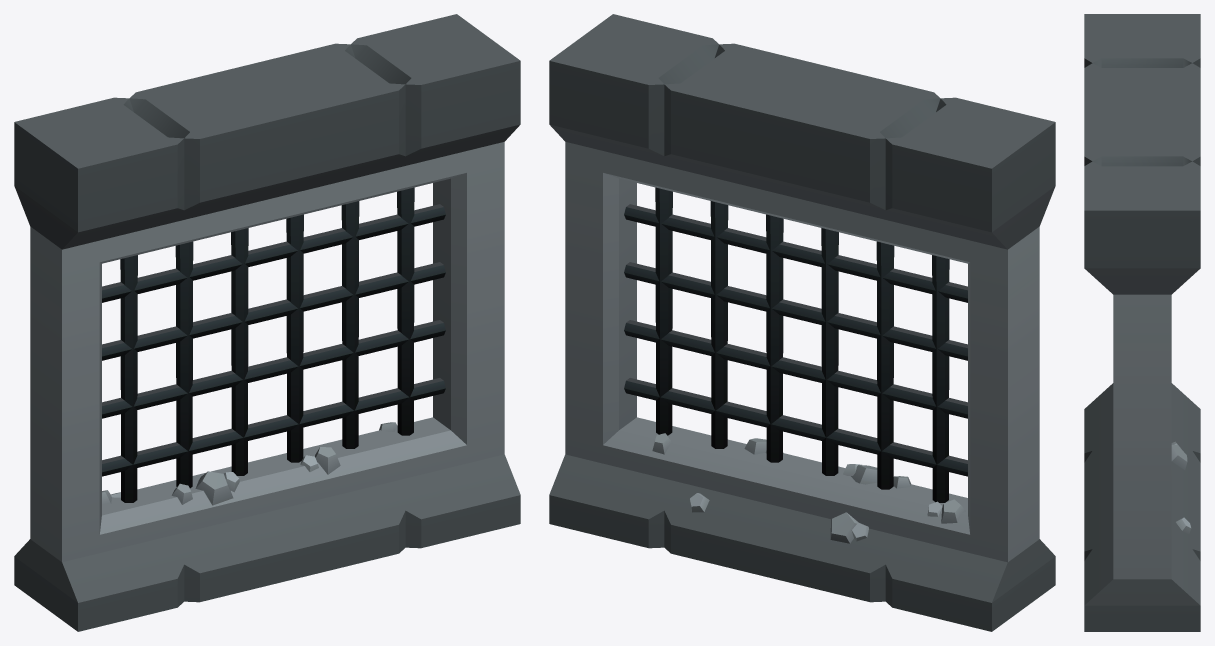
The model's file is wall_gated.glb.
3 views of the same model, side by side, from view 1: azimuth 30°, elevation 25°; view 2: azimuth 150°, elevation 25°; view 3: azimuth 270°, elevation 25° (orthographic). The views are drawn at different scales.
Visible parts, largest first — view 1: wall_gated; view 2: wall_gated; view 3: wall_gated.
Part boxes in pixels (x1=…): wall_gated: x1=14, y1=14, x2=520, y2=631; wall_gated: x1=549, y1=14, x2=1055, y2=631; wall_gated: x1=1084, y1=14, x2=1200, y2=631.
Size of the model in its own units: 4 by 4 by 1.
1 material, 1 textured.
